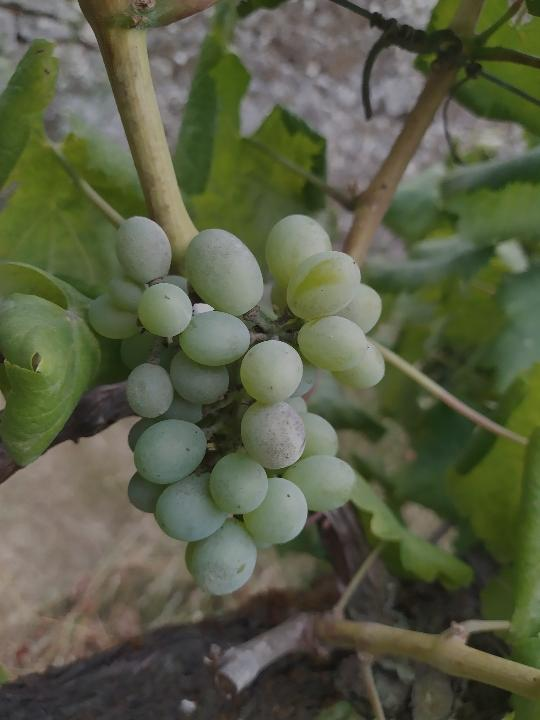grape: (82, 212, 389, 599)
